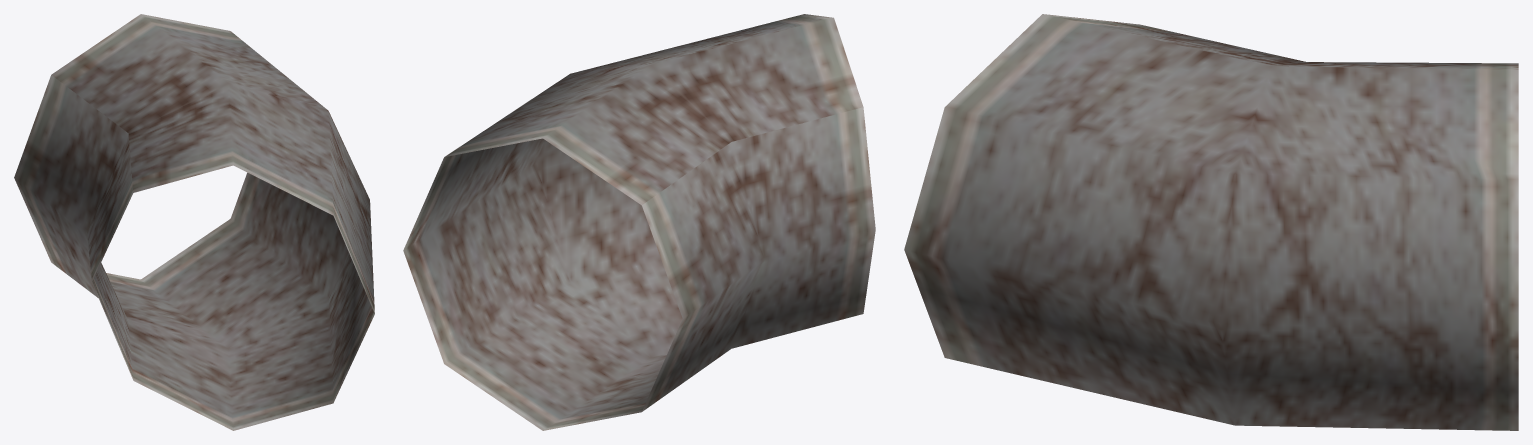
File: Venting7.fbx
The picture shows the model from 3 angles, left to right: view 1: azimuth 30°, elevation 25°; view 2: azimuth 150°, elevation 25°; view 3: azimuth 270°, elevation 25°; orthographic projection. The views are drawn at different scales.
Visible parts, largest first — view 1: Venting7; view 2: Venting7; view 3: Venting7.
Part boxes in pixels (left/top/right/bottom): Venting7: left=14, top=14, right=374, bottom=430; Venting7: left=403, top=14, right=875, bottom=430; Venting7: left=904, top=14, right=1518, bottom=430.
Bounding box in the file's own units: 26.6 × 22.32 × 35.06.
